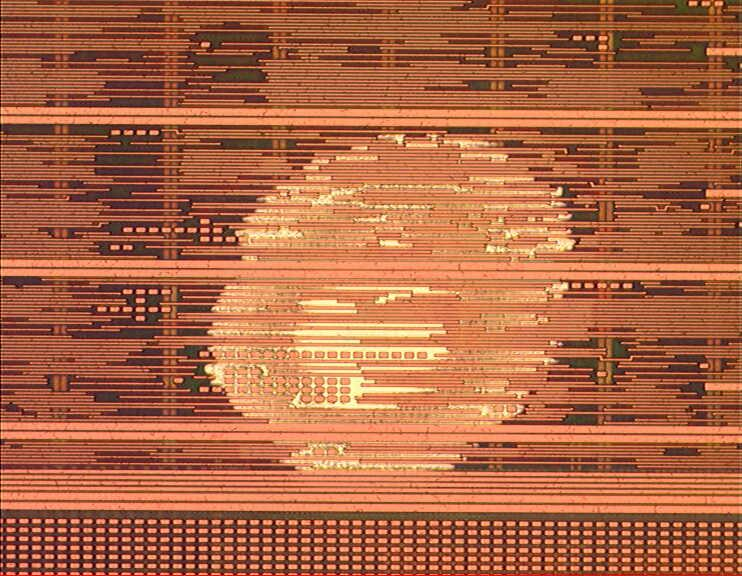BLOCK ETCH: (203, 122, 580, 478)
